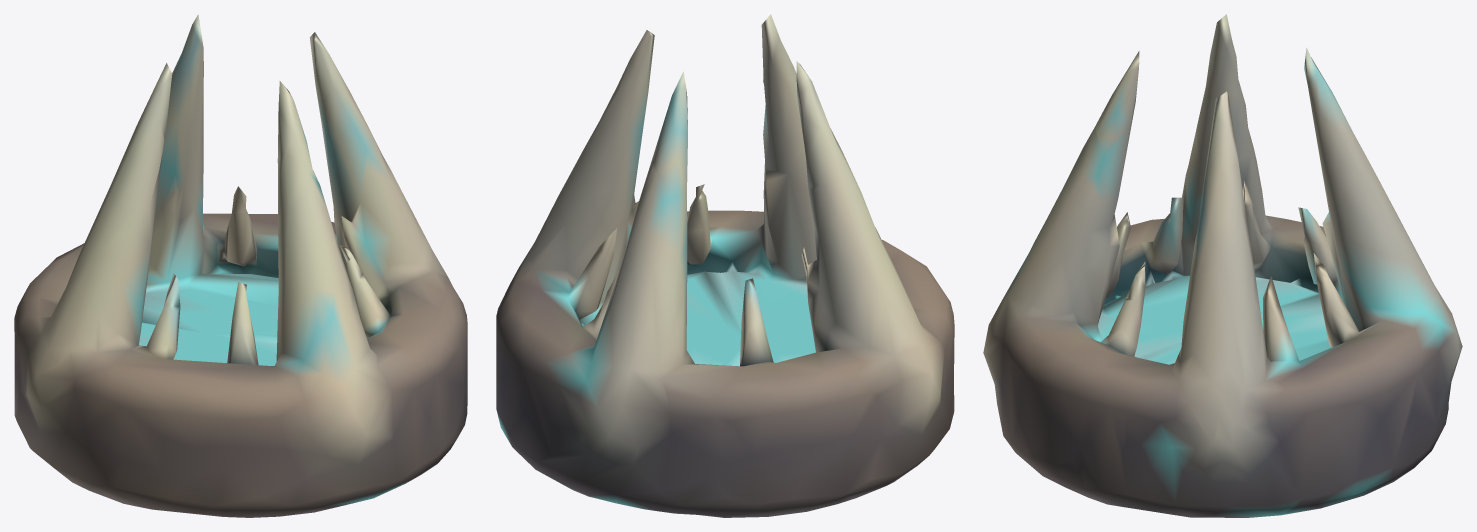
The model's file is burrower_head.glb.
3 views of the same model, side by side, from view 1: azimuth 30°, elevation 25°; view 2: azimuth 150°, elevation 25°; view 3: azimuth 270°, elevation 25° (orthographic).
Parts seen in each view (by area): view 1: geometry_0; view 2: geometry_0; view 3: geometry_0.
Part boxes in pixels (x1=…): geometry_0: x1=14, y1=14, x2=467, y2=517; geometry_0: x1=496, y1=14, x2=954, y2=517; geometry_0: x1=983, y1=14, x2=1462, y2=517.
Bounding box in the file's own units: 1.16 × 1.04 × 1.17.
